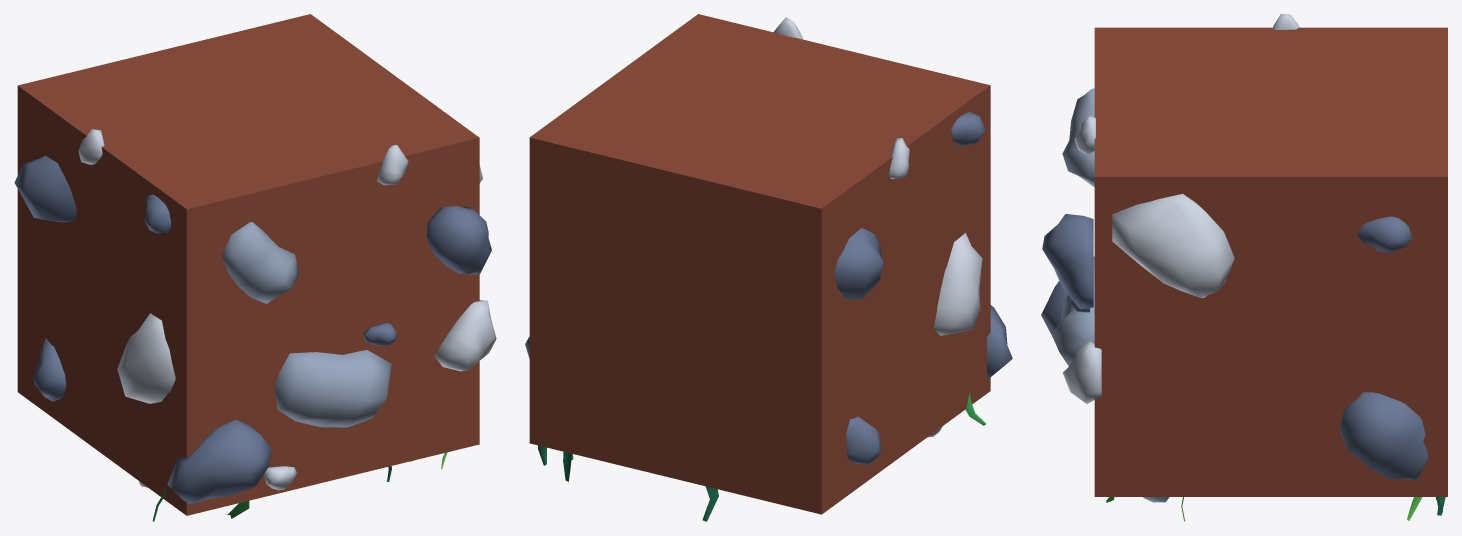
The model's file is tileRoof.glb.
3 renders of one model, left to right at view 1: azimuth 30°, elevation 25°; view 2: azimuth 150°, elevation 25°; view 3: azimuth 270°, elevation 25°, orthographic. The views are drawn at different scales.
Parts seen in each view (by area): view 1: roof; view 2: roof; view 3: roof.
Boxes of the visible parts, box(x1,y1,x2,y2) form: roof: box(14, 14, 496, 521); roof: box(525, 14, 1012, 521); roof: box(1041, 14, 1447, 521).
Size of what is drawn, in the model's own units: 2.43 by 2.39 by 2.3.
Materials: 1 (1 with a texture image).
